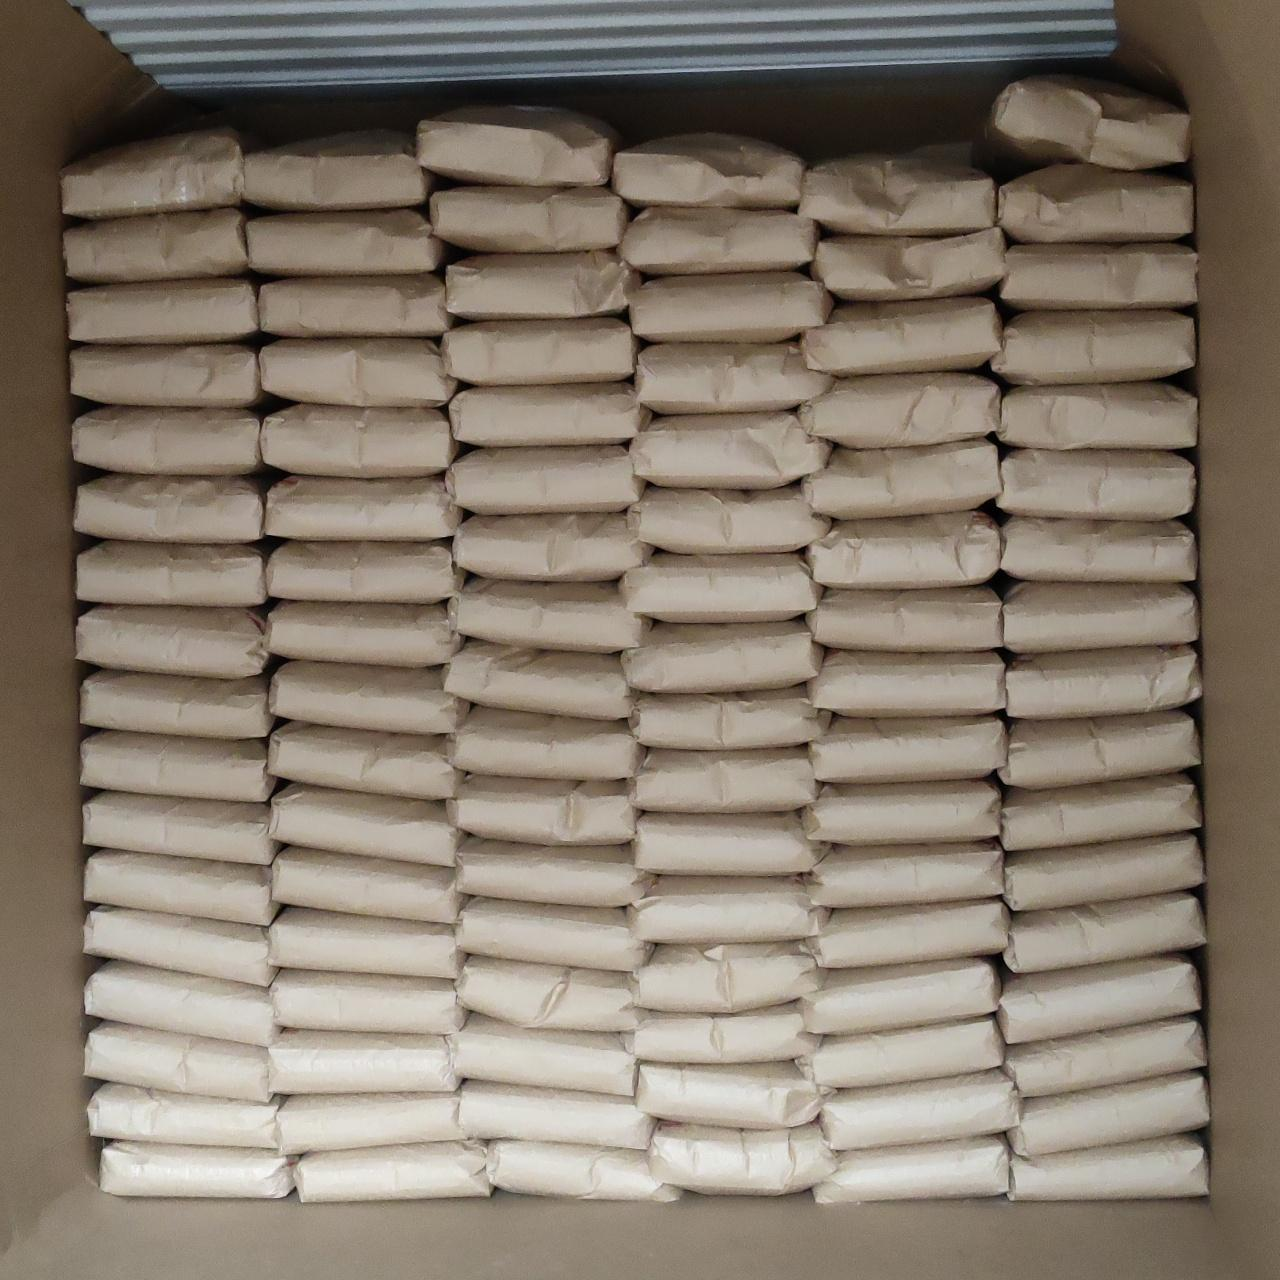sack: (983, 76, 1189, 170), (62, 125, 248, 216), (1000, 956, 1198, 1039), (799, 150, 994, 232), (418, 104, 620, 182), (86, 962, 275, 1044), (802, 440, 998, 518), (1010, 1074, 1206, 1152), (1006, 894, 1204, 972), (822, 1070, 1020, 1148), (1005, 1017, 1204, 1094), (802, 298, 998, 374), (444, 640, 634, 719), (270, 784, 462, 862), (1006, 835, 1201, 910), (632, 411, 828, 486), (450, 1014, 634, 1094), (270, 722, 459, 798), (1002, 774, 1200, 846), (450, 578, 648, 651), (86, 906, 274, 982), (992, 312, 1194, 382), (272, 847, 462, 922), (998, 164, 1190, 238), (799, 374, 998, 445), (244, 132, 433, 207), (448, 706, 642, 778), (806, 512, 998, 586), (629, 272, 830, 342), (1006, 646, 1198, 719), (1000, 712, 1198, 782), (799, 960, 998, 1030), (272, 662, 467, 734), (798, 1017, 1002, 1085), (86, 1024, 270, 1099), (264, 404, 456, 476), (812, 229, 1005, 300), (614, 134, 802, 206), (458, 956, 642, 1030), (86, 852, 275, 924), (622, 622, 822, 690), (1002, 583, 1198, 652), (636, 342, 832, 411), (458, 898, 651, 968), (998, 450, 1194, 518), (64, 210, 248, 282), (79, 606, 268, 676), (628, 876, 826, 942), (620, 207, 818, 274), (260, 338, 454, 406), (84, 792, 274, 862), (651, 1122, 836, 1192), (622, 554, 821, 620), (454, 515, 651, 580), (82, 731, 275, 798), (810, 716, 1006, 782), (810, 900, 1006, 966), (810, 651, 1005, 716), (459, 1082, 654, 1148), (628, 486, 830, 550), (248, 210, 445, 274), (1002, 244, 1196, 309), (632, 944, 822, 1010), (448, 445, 644, 510), (1010, 1133, 1206, 1198), (456, 838, 652, 903), (270, 908, 462, 974), (442, 318, 636, 382), (808, 842, 1002, 906), (998, 382, 1196, 445), (268, 476, 462, 540), (433, 186, 629, 250), (448, 252, 638, 318), (76, 476, 266, 542), (808, 586, 1000, 651), (638, 1062, 830, 1126), (448, 776, 636, 842), (632, 686, 830, 748), (74, 408, 263, 472), (632, 812, 828, 874), (76, 542, 264, 606), (816, 1138, 1006, 1201), (804, 779, 998, 842), (1002, 518, 1196, 580), (68, 278, 254, 342), (72, 343, 264, 406), (266, 602, 462, 663), (90, 1084, 278, 1148), (450, 384, 648, 444), (82, 672, 270, 734), (272, 971, 464, 1030), (270, 1032, 456, 1092), (268, 542, 462, 600), (297, 1142, 490, 1200), (260, 275, 452, 334), (624, 1005, 818, 1062), (629, 748, 816, 808), (488, 1141, 678, 1198), (278, 1094, 462, 1150), (102, 1142, 292, 1196)
